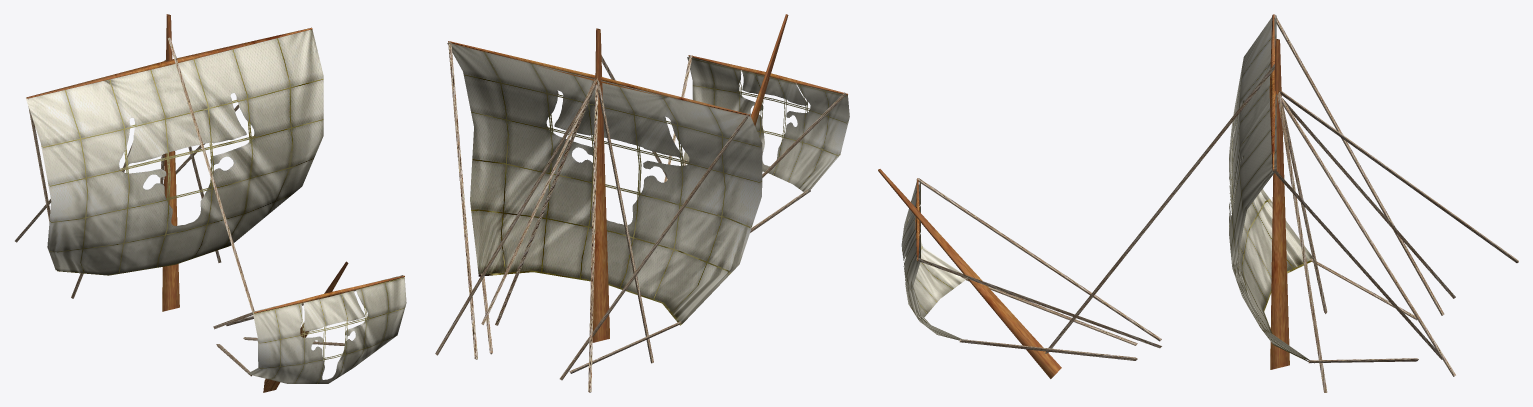
Rendered from iber_merch_sail.dae.
3 views of the same model, side by side, from view 1: azimuth 30°, elevation 25°; view 2: azimuth 150°, elevation 25°; view 3: azimuth 270°, elevation 25° (orthographic). The views are drawn at different scales.
Parts seen in each view (by area): view 1: Circle; view 2: Circle; view 3: Circle.
Part boxes in pixels (x1,y1,x2,y2): Circle: (15,14,406,392); Circle: (435,14,849,392); Circle: (878,14,1518,392).
Bounding box in the file's own units: 14.23 × 24.86 × 14.39.
